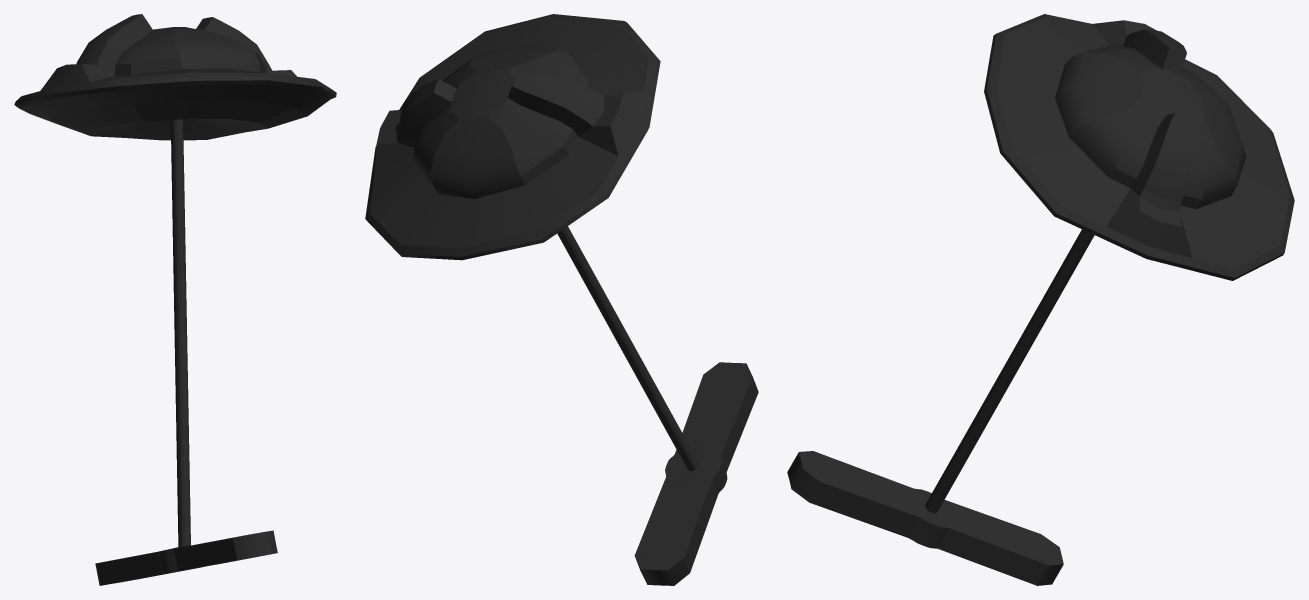
File: boat_fuelCap02.fbx
3 renders of one model, left to right at view 1: azimuth 30°, elevation 25°; view 2: azimuth 150°, elevation 25°; view 3: azimuth 270°, elevation 25°, orthographic. The views are drawn at different scales.
Parts seen in each view (by area): view 1: boat_fuelCap01; view 2: boat_fuelCap01; view 3: boat_fuelCap01.
Boxes of the visible parts, x1,y1,x2,y2 form: boat_fuelCap01: (14, 14, 336, 585); boat_fuelCap01: (365, 14, 758, 585); boat_fuelCap01: (787, 14, 1294, 585).
Size of the model in its own units: 8.79 by 16.97 by 13.51.
